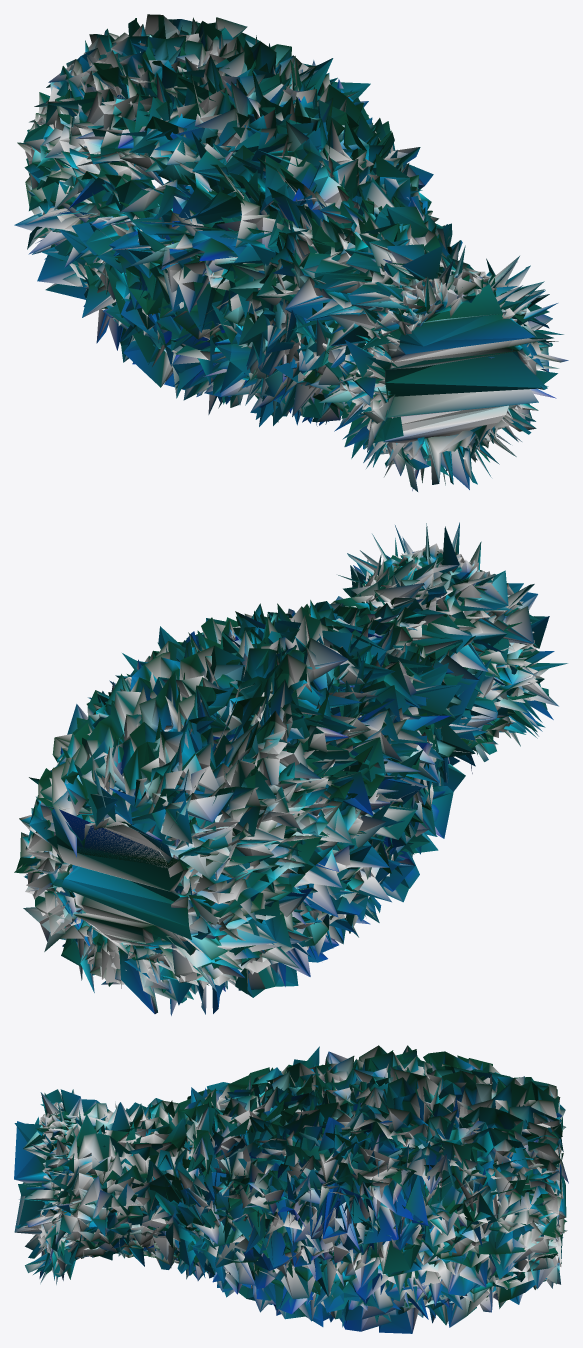
The model's file is lamp_shade_10_final400.obj.
The picture shows the model from 3 angles, top to bottom: view 1: azimuth 30°, elevation 25°; view 2: azimuth 150°, elevation 25°; view 3: azimuth 270°, elevation 25°; orthographic projection. The views are drawn at different scales.
Bounding box in the file's own units: 1.02 × 0.987 × 1.92.
